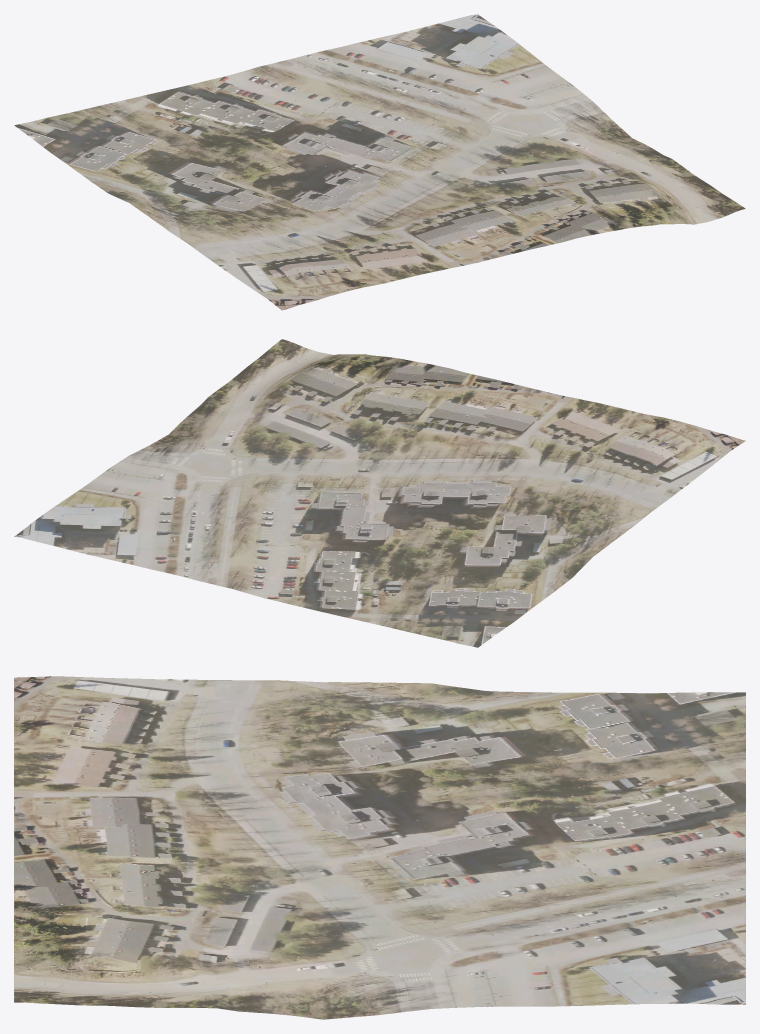
Rendered from CM_Terrain_24492302_6814674.fbx.
The picture shows the model from 3 angles, top to bottom: view 1: azimuth 30°, elevation 25°; view 2: azimuth 150°, elevation 25°; view 3: azimuth 270°, elevation 25°; orthographic projection. The views are drawn at different scales.
Visible parts, largest first — view 1: CM_Terrain_24492302_6814674_LOD0; view 2: CM_Terrain_24492302_6814674_LOD0; view 3: CM_Terrain_24492302_6814674_LOD0.
Boxes of the visible parts, left/top/right/bottom form: CM_Terrain_24492302_6814674_LOD0: left=14, top=14, right=745, bottom=310; CM_Terrain_24492302_6814674_LOD0: left=14, top=339, right=745, bottom=647; CM_Terrain_24492302_6814674_LOD0: left=14, top=676, right=745, bottom=1019.
Size of what is drawn, in the model's own units: 205 by 11.68 by 205.
